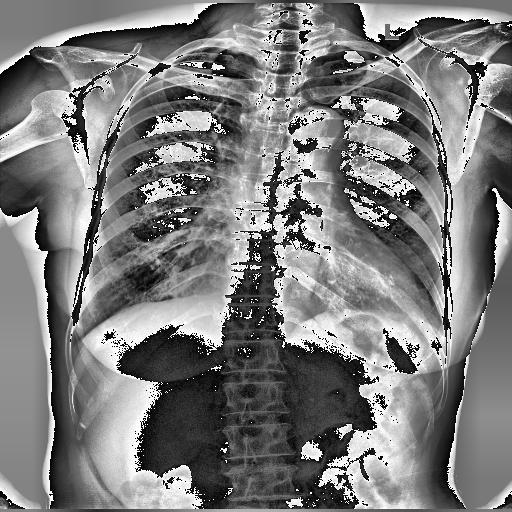0- Aortic enlargement: (290, 102, 346, 170), (287, 108, 346, 162), (286, 104, 343, 154)
3- Cardiomegaly: (228, 236, 436, 336), (217, 258, 435, 326), (217, 265, 438, 323)
